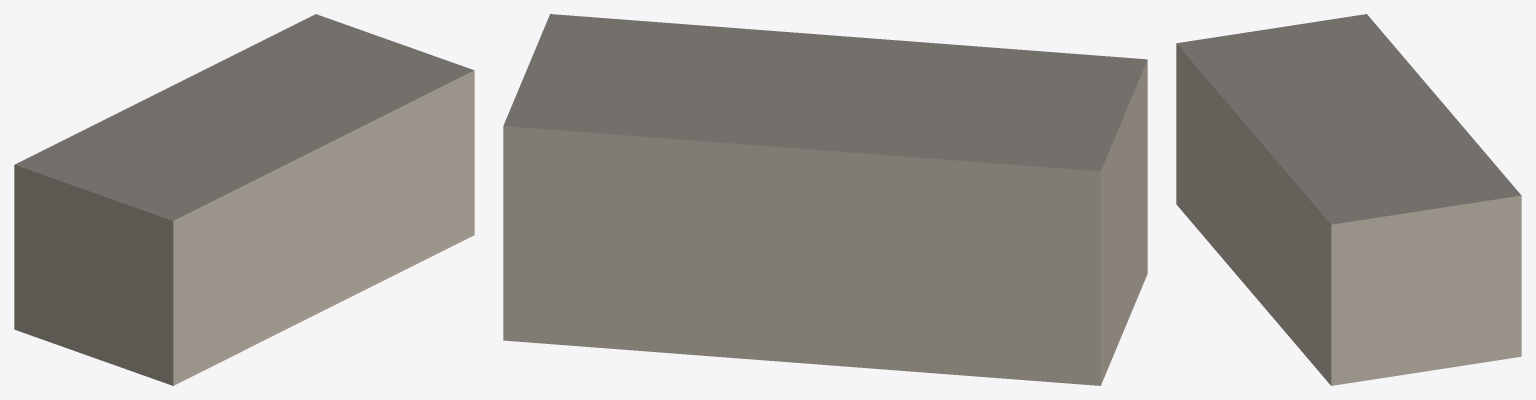
3 renders of one model, left to right at view 1: azimuth 30°, elevation 25°; view 2: azimuth 150°, elevation 25°; view 3: azimuth 270°, elevation 25°, orthographic. The views are drawn at different scales.
Visible parts, largest first — view 1: HP-w1287260011; view 2: HP-w1287260011; view 3: HP-w1287260011.
Part boxes in pixels (<box>): HP-w1287260011: <box>14,14,474,385</box>; HP-w1287260011: <box>503,14,1147,385</box>; HP-w1287260011: <box>1176,14,1521,385</box>.
Bounding box in the file's own units: 50.45 × 18 × 34.91.
